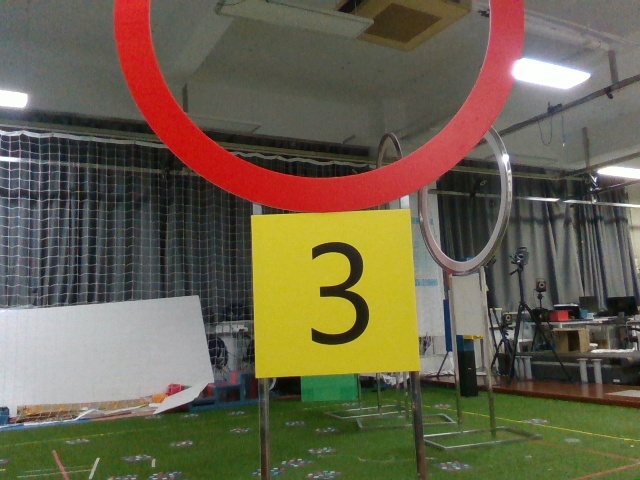target: (253, 213, 414, 371)
